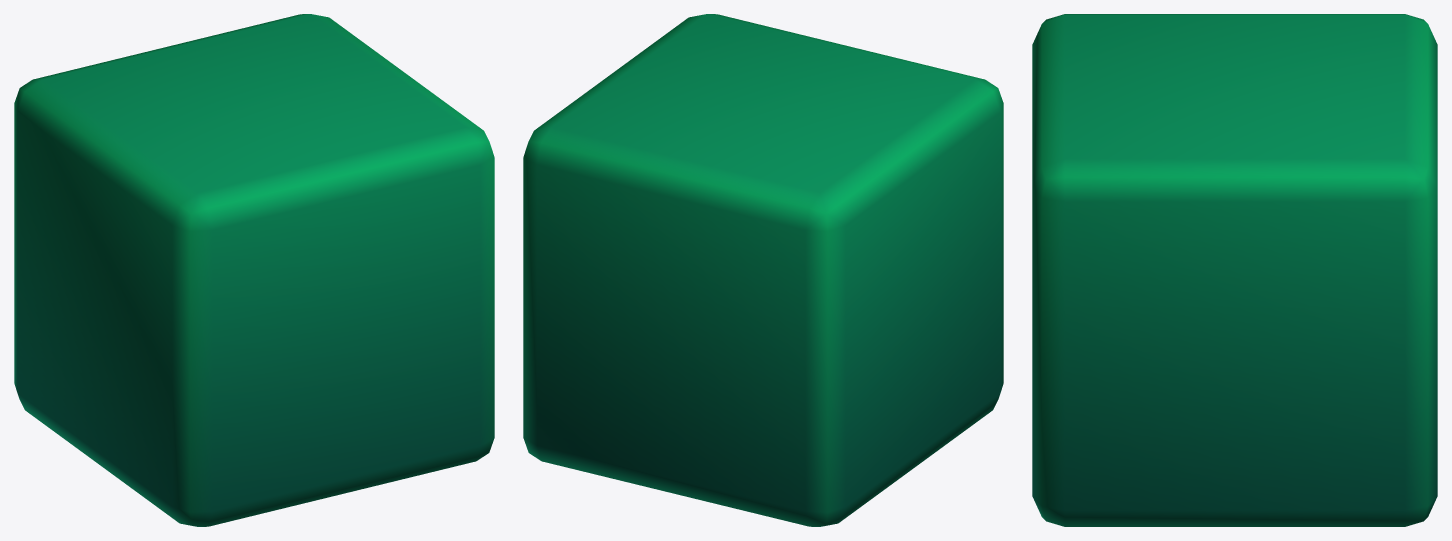
File: cube_green.obj
The picture shows the model from 3 angles, left to right: view 1: azimuth 30°, elevation 25°; view 2: azimuth 150°, elevation 25°; view 3: azimuth 270°, elevation 25°; orthographic projection. The views are drawn at different scales.
Parts seen in each view (by area): view 1: cube_green; view 2: cube_green; view 3: cube_green.
Part boxes in pixels (x1=…): cube_green: x1=14, y1=14, x2=494, y2=526; cube_green: x1=523, y1=14, x2=1003, y2=526; cube_green: x1=1032, y1=14, x2=1437, y2=526.
Size of the model in its own units: 0.5 by 0.5 by 0.5.
1 material, 1 textured.
